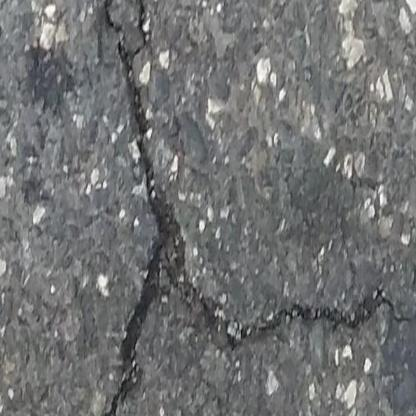Cracks: (100, 0, 405, 416)
